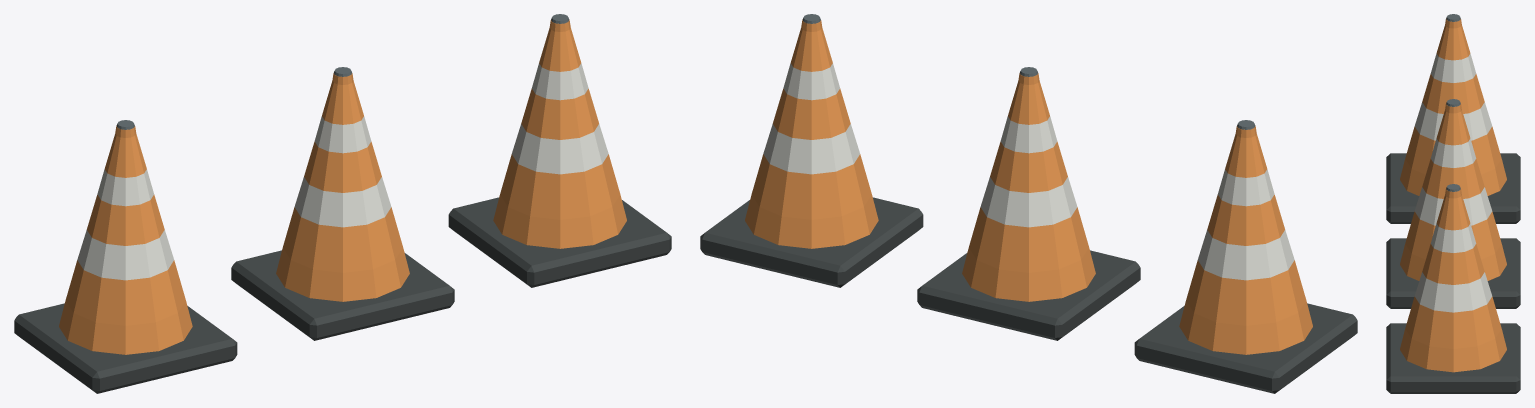
Rendered from Traffic_Cones.fbx.
3 renders of one model, left to right at view 1: azimuth 30°, elevation 25°; view 2: azimuth 150°, elevation 25°; view 3: azimuth 270°, elevation 25°, orthographic. The views are drawn at different scales.
Visible parts, largest first — view 1: Traffic_Cones__LPCXFER; view 2: Traffic_Cones__LPCXFER; view 3: Traffic_Cones__LPCXFER.
Part boxes in pixels (bbox=[...]): Traffic_Cones__LPCXFER: bbox=[14, 14, 671, 393]; Traffic_Cones__LPCXFER: bbox=[700, 14, 1357, 393]; Traffic_Cones__LPCXFER: bbox=[1386, 14, 1520, 393].
Bounding box in the file's own units: 120 × 44.6 × 30.
